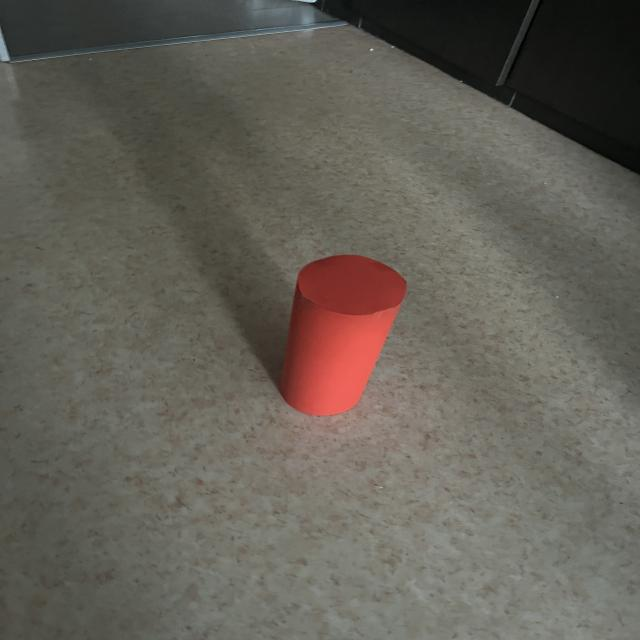przeszkoda: (279, 255, 406, 415)
